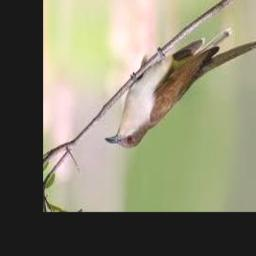Cuckoo: (105, 28, 256, 148)
